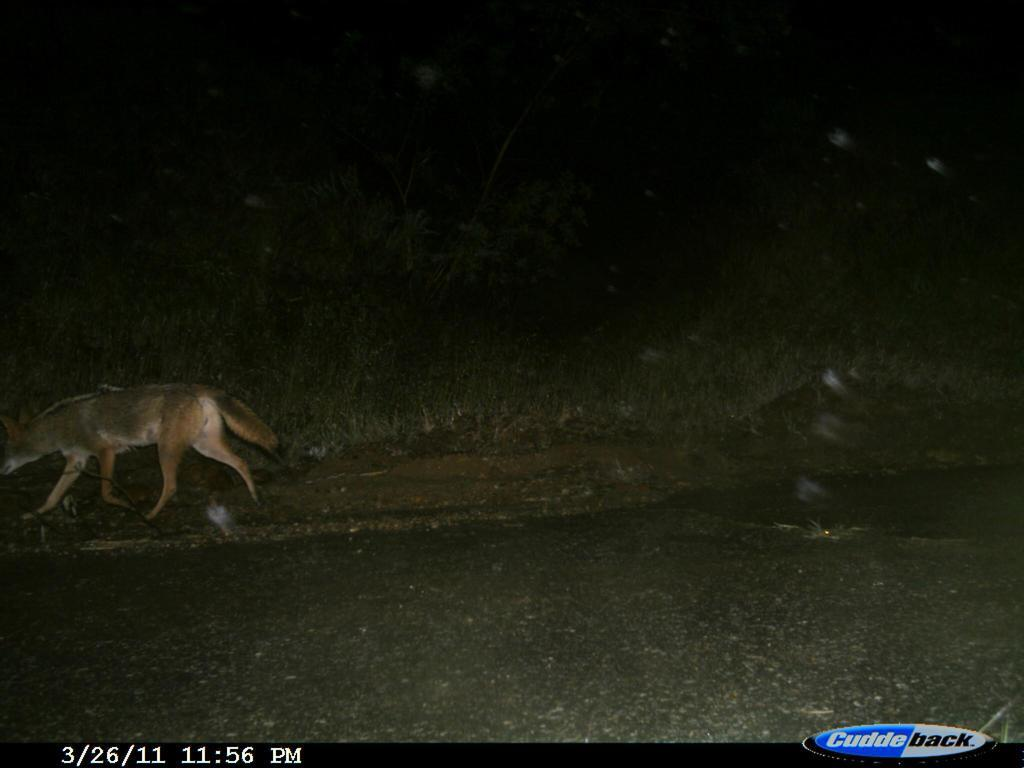coyote: (2, 367, 299, 524)
